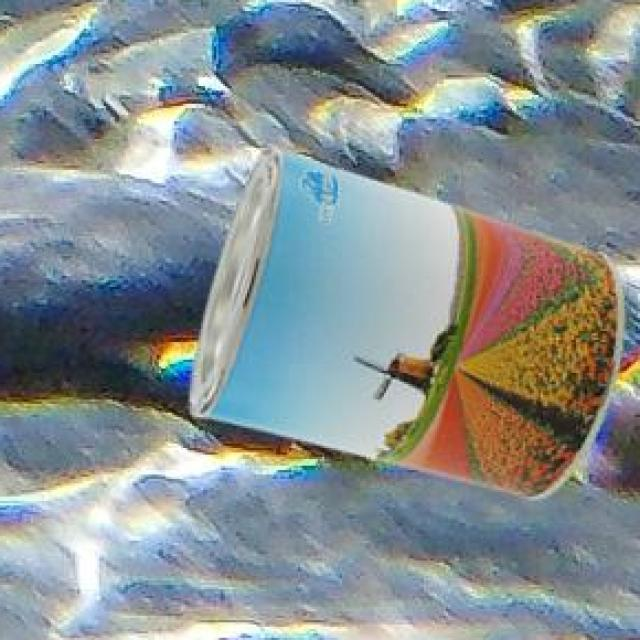logam: (195, 142, 628, 495)
